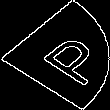P_NW: (11, 24, 99, 86)
